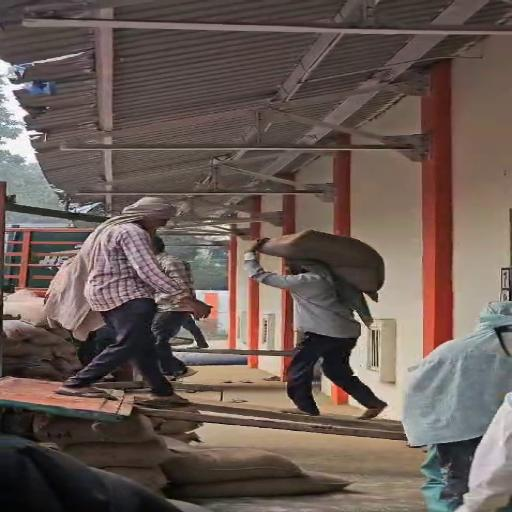bag: (259, 227, 395, 298)
